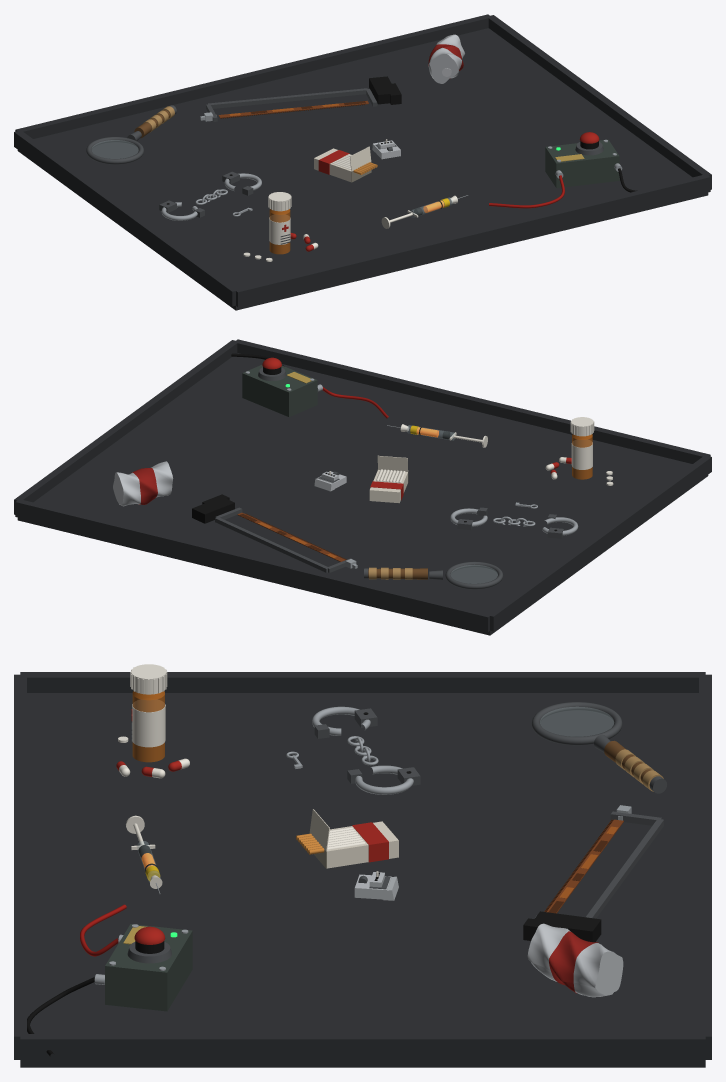
Rendered from inventaire.glb.
3 renders of one model, top to bottom at view 1: azimuth 30°, elevation 25°; view 2: azimuth 150°, elevation 25°; view 3: azimuth 270°, elevation 25°, orthographic. The views are drawn at different scales.
Visible parts, largest first — view 1: plateau, bord_long (×2), bord_court (×2), boitier, canette, arceau_haut, cerclage, verre, poignee, etiquette; view 2: plateau, bord_long (×2), bord_court (×2), boitier, canette, arceau_haut, cerclage, paquet, verre, poignee, bande, etiquette; view 3: plateau, bord_court (×2), bord_long (×2), boitier, canette, verre, cerclage, bande, paquet, etiquette, arceau_haut, poignee (+5 smaller).
Boxes of the visible parts, x1,y1,x2,y2 form: plateau: [17, 28, 708, 310]; bord_long (×2): [15, 14, 710, 306]; bord_court (×2): [14, 15, 711, 306]; boitier: [545, 139, 619, 188]; canette: [428, 34, 464, 83]; arceau_haut: [208, 88, 367, 108]; cerclage: [86, 137, 143, 164]; verre: [92, 140, 138, 158]; poignee: [369, 76, 396, 104]; etiquette: [269, 215, 290, 244]; plateau: [17, 353, 708, 635]; bord_long (×2): [15, 339, 710, 631]; bord_court (×2): [14, 340, 711, 631]; boitier: [242, 365, 317, 416]; canette: [113, 461, 173, 506]; arceau_haut: [215, 517, 327, 572]; cerclage: [445, 561, 503, 589]; paquet: [369, 470, 407, 503]; verre: [451, 565, 497, 583]; poignee: [192, 499, 234, 523]; bande: [131, 468, 157, 504]; etiquette: [571, 440, 592, 469]; plateau: [20, 693, 705, 1067]; bord_court (×2): [20, 672, 705, 1062]; bord_long (×2): [14, 674, 711, 1059]; boitier: [105, 924, 192, 1011]; canette: [527, 923, 623, 997]; verre: [540, 707, 613, 736]; cerclage: [531, 702, 622, 745]; bande: [549, 931, 598, 993]; paquet: [327, 821, 398, 868]; etiquette: [132, 703, 165, 747]; arceau_haut: [586, 819, 663, 918]; poignee: [534, 911, 601, 942].
Bounding box in the file's own units: 1.03 × 0.128 × 0.815.
